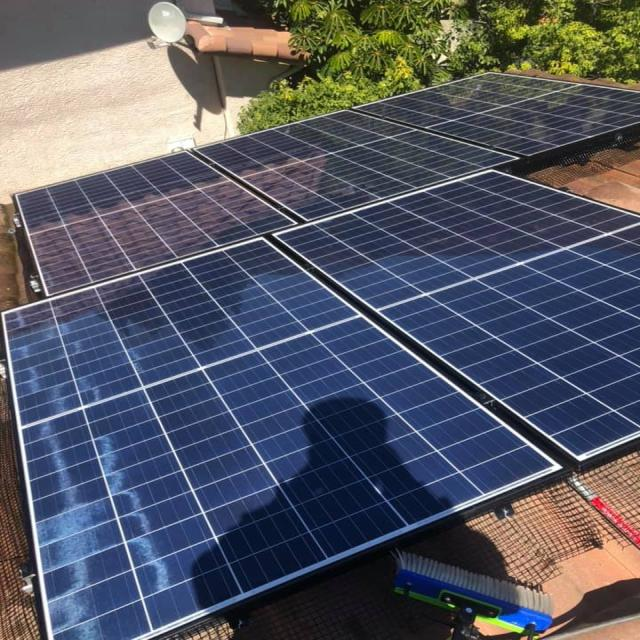clean-solar-panel: (5, 171, 638, 640), (15, 74, 640, 296)
